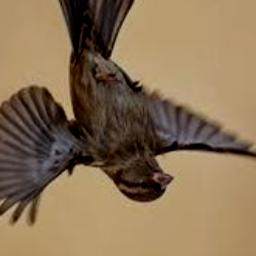Sparrow: (0, 0, 256, 226)
